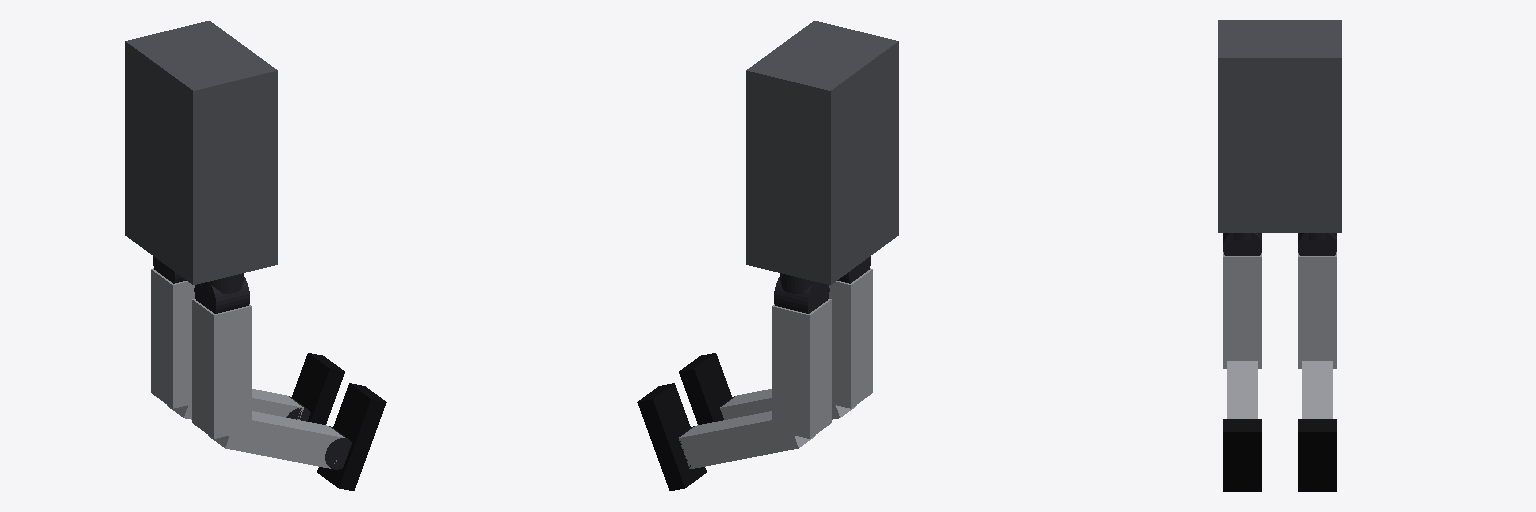
URDF robot description (strider):
<?xml version="1.0"?>
<!--
  strider: a two-legged robot description for the capability ladder's T4.

  Authored by this benchmark's own maintainers. It is not a vendor model and
  it is not a copy of one: no column gets credit for shipping a first-party
  model of it, and no column is disadvantaged by not having one. That is a
  deliberate trade and it is recorded in meta.json rather than hidden.

  PRIMITIVE GEOMETRY ONLY. Every link is a box or a cylinder. There is not one
  mesh in this file and not one external reference, for the reason the tiers
  below state: capability-ladder-plan.md section 9 Q4 names the risk that a
  column fails a tier on a mesh-decoding quirk and the grid reads as a
  capability verdict. T1's container carries COLLADA meshes and lives with
  that risk on the record; this tier must not compound it.

  Layout: one base and two identical legs, each with six revolute joints:
  hip yaw (about z), hip roll (about x), hip pitch (about y), knee (about y),
  ankle pitch (about y), ankle roll (about x). 13 links, 12 joints, NO fixed
  joints anywhere. The absence of fixed joints is deliberate: an importer that
  fuses welded bodies would erase a named foot link, and the tier counts
  make-and-break ground contacts PER CONTACTING BODY. Each foot is the child
  of its own ankle-roll joint and stays a named body on every column.

  There are no arms, and the trunk is part of base_link rather than a separate
  body on a waist joint. Both are deliberate. The tier is a statement about
  legs; every extra body is one more thing a column's importer can differ on,
  and a waist joint would have to be driven just to keep the trunk upright.

  Collision geometry is on the base box and the two foot boxes only. Thighs,
  shanks and the joint housings are visual. This is the standard modelling
  choice for a legged robot and it is stated rather than assumed: a column
  that reports contacts will report them naming base_link, foot_l and foot_r,
  and nothing else on this robot can touch anything.

  Standing geometry (a fact about this file, not a recommended pose). With
  every joint at zero the legs are straight, the sole sits 0.725 m below the
  base origin, and each foot is directly under its own hip. With a modest
  crouch of hip pitch 0.30, knee -0.60, ankle pitch 0.30 the sole sits 0.680 m
  below the base origin and the foot is still directly under the hip, because
  the shank rotates back through exactly the angle the thigh rotated forward.
  Each leg reaches between 0.09 m and 0.60 m from hip pitch axis to sole.

  The knee's upper limit is -0.05 rad rather than 0: a knee allowed to lock
  straight sits on the singularity of every two-link leg solution, where the
  solution is numerically fine and physically rigid.

  This file describes a robot and nothing else. No world, no ground, no light,
  no actuator, no motion plan. What the world must offer is stated in
  ARENA.txt beside this file.

  NOTE ON XML COMMENTS: a double hyphen is illegal inside an XML comment and a
  strict reader rejects the whole file for one, while several simulators'
  description paths are not schema-checked and accept it. None appears here on
  purpose.
-->
<robot name="strider">

  <!-- ====================== base: pelvis and trunk ====================== -->
  <link name="base_link">
    <inertial>
      <origin xyz="0 0 0.20" rpy="0 0 0"/>
      <mass value="12.0"/>
      <inertia ixx="0.272" ixy="0" ixz="0" iyy="0.234" iyz="0" izz="0.118"/>
    </inertial>
    <visual>
      <origin xyz="0 0 0.20" rpy="0 0 0"/>
      <geometry><box size="0.20 0.28 0.44"/></geometry>
      <material name="body_grey"><color rgba="0.35 0.36 0.38 1.0"/></material>
    </visual>
    <collision>
      <origin xyz="0 0 0.20" rpy="0 0 0"/>
      <geometry><box size="0.20 0.28 0.44"/></geometry>
    </collision>
  </link>

  <!-- ============================ left leg ============================= -->
  <link name="hip_yaw_l">
    <inertial>
      <origin xyz="0 0 0" rpy="0 0 0"/>
      <mass value="0.70"/>
      <inertia ixx="0.00064" ixy="0" ixz="0" iyy="0.00064" iyz="0"
               izz="0.00071"/>
    </inertial>
    <visual>
      <origin xyz="0 0 0" rpy="0 0 0"/>
      <geometry><cylinder radius="0.045" length="0.07"/></geometry>
      <material name="joint_dark"><color rgba="0.18 0.18 0.20 1.0"/></material>
    </visual>
  </link>
  <joint name="hip_yaw_l_joint" type="revolute">
    <parent link="base_link"/>
    <child link="hip_yaw_l"/>
    <origin xyz="0 0.085 -0.03" rpy="0 0 0"/>
    <axis xyz="0 0 1"/>
    <limit lower="-0.70" upper="0.70" effort="60.0" velocity="15.0"/>
    <dynamics damping="0.10" friction="0.0"/>
  </joint>

  <link name="hip_roll_l">
    <inertial>
      <origin xyz="0 0 0" rpy="0 0 0"/>
      <mass value="0.70"/>
      <inertia ixx="0.00071" ixy="0" ixz="0" iyy="0.00073" iyz="0"
               izz="0.00073"/>
    </inertial>
    <visual>
      <origin xyz="0 0 0" rpy="0 1.5708 0"/>
      <geometry><cylinder radius="0.045" length="0.08"/></geometry>
      <material name="joint_dark"/>
    </visual>
  </link>
  <joint name="hip_roll_l_joint" type="revolute">
    <parent link="hip_yaw_l"/>
    <child link="hip_roll_l"/>
    <origin xyz="0 0 -0.055" rpy="0 0 0"/>
    <axis xyz="1 0 0"/>
    <limit lower="-0.45" upper="0.45" effort="80.0" velocity="15.0"/>
    <dynamics damping="0.10" friction="0.0"/>
  </joint>

  <link name="thigh_l">
    <inertial>
      <origin xyz="0 0 -0.14" rpy="0 0 0"/>
      <mass value="2.40"/>
      <inertia ixx="0.01730" ixy="0" ixz="0" iyy="0.01730" iyz="0"
               izz="0.00324"/>
    </inertial>
    <visual>
      <origin xyz="0 0 -0.14" rpy="0 0 0"/>
      <geometry><box size="0.09 0.09 0.28"/></geometry>
      <material name="limb_light"><color rgba="0.62 0.63 0.65 1.0"/></material>
    </visual>
  </link>
  <joint name="hip_pitch_l_joint" type="revolute">
    <parent link="hip_roll_l"/>
    <child link="thigh_l"/>
    <origin xyz="0 0 -0.02" rpy="0 0 0"/>
    <axis xyz="0 1 0"/>
    <limit lower="-2.00" upper="1.00" effort="100.0" velocity="15.0"/>
    <dynamics damping="0.10" friction="0.0"/>
  </joint>

  <link name="shank_l">
    <inertial>
      <origin xyz="0 0 -0.14" rpy="0 0 0"/>
      <mass value="1.80"/>
      <inertia ixx="0.01250" ixy="0" ixz="0" iyy="0.01250" iyz="0"
               izz="0.00147"/>
    </inertial>
    <visual>
      <origin xyz="0 0 -0.14" rpy="0 0 0"/>
      <geometry><box size="0.07 0.07 0.28"/></geometry>
      <material name="limb_light"/>
    </visual>
  </link>
  <joint name="knee_l_joint" type="revolute">
    <parent link="thigh_l"/>
    <child link="shank_l"/>
    <origin xyz="0 0 -0.28" rpy="0 0 0"/>
    <axis xyz="0 1 0"/>
    <limit lower="-2.30" upper="-0.05" effort="120.0" velocity="15.0"/>
    <dynamics damping="0.10" friction="0.0"/>
  </joint>

  <link name="ankle_l">
    <inertial>
      <origin xyz="0 0 0" rpy="0 0 0"/>
      <mass value="0.30"/>
      <inertia ixx="0.000214" ixy="0" ixz="0" iyy="0.000184" iyz="0"
               izz="0.000214"/>
    </inertial>
    <visual>
      <origin xyz="0 0 0" rpy="1.5708 0 0"/>
      <geometry><cylinder radius="0.035" length="0.07"/></geometry>
      <material name="joint_dark"/>
    </visual>
  </link>
  <joint name="ankle_pitch_l_joint" type="revolute">
    <parent link="shank_l"/>
    <child link="ankle_l"/>
    <origin xyz="0 0 -0.28" rpy="0 0 0"/>
    <axis xyz="0 1 0"/>
    <limit lower="-0.90" upper="0.90" effort="60.0" velocity="15.0"/>
    <dynamics damping="0.10" friction="0.0"/>
  </joint>

  <link name="foot_l">
    <inertial>
      <origin xyz="0.03 0 -0.02" rpy="0 0 0"/>
      <mass value="0.90"/>
      <inertia ixx="0.000728" ixy="0" ixz="0" iyy="0.00312" iyz="0"
               izz="0.00361"/>
    </inertial>
    <visual>
      <origin xyz="0.03 0 -0.02" rpy="0 0 0"/>
      <geometry><box size="0.20 0.09 0.04"/></geometry>
      <material name="foot_dark"><color rgba="0.10 0.10 0.11 1.0"/></material>
    </visual>
    <collision>
      <origin xyz="0.03 0 -0.02" rpy="0 0 0"/>
      <geometry><box size="0.20 0.09 0.04"/></geometry>
    </collision>
  </link>
  <joint name="ankle_roll_l_joint" type="revolute">
    <parent link="ankle_l"/>
    <child link="foot_l"/>
    <origin xyz="0 0 -0.02" rpy="0 0 0"/>
    <axis xyz="1 0 0"/>
    <limit lower="-0.45" upper="0.45" effort="30.0" velocity="15.0"/>
    <dynamics damping="0.10" friction="0.0"/>
  </joint>

  <!-- ============================ right leg ============================ -->
  <link name="hip_yaw_r">
    <inertial>
      <origin xyz="0 0 0" rpy="0 0 0"/>
      <mass value="0.70"/>
      <inertia ixx="0.00064" ixy="0" ixz="0" iyy="0.00064" iyz="0"
               izz="0.00071"/>
    </inertial>
    <visual>
      <origin xyz="0 0 0" rpy="0 0 0"/>
      <geometry><cylinder radius="0.045" length="0.07"/></geometry>
      <material name="joint_dark"/>
    </visual>
  </link>
  <joint name="hip_yaw_r_joint" type="revolute">
    <parent link="base_link"/>
    <child link="hip_yaw_r"/>
    <origin xyz="0 -0.085 -0.03" rpy="0 0 0"/>
    <axis xyz="0 0 1"/>
    <limit lower="-0.70" upper="0.70" effort="60.0" velocity="15.0"/>
    <dynamics damping="0.10" friction="0.0"/>
  </joint>

  <link name="hip_roll_r">
    <inertial>
      <origin xyz="0 0 0" rpy="0 0 0"/>
      <mass value="0.70"/>
      <inertia ixx="0.00071" ixy="0" ixz="0" iyy="0.00073" iyz="0"
               izz="0.00073"/>
    </inertial>
    <visual>
      <origin xyz="0 0 0" rpy="0 1.5708 0"/>
      <geometry><cylinder radius="0.045" length="0.08"/></geometry>
      <material name="joint_dark"/>
    </visual>
  </link>
  <joint name="hip_roll_r_joint" type="revolute">
    <parent link="hip_yaw_r"/>
    <child link="hip_roll_r"/>
    <origin xyz="0 0 -0.055" rpy="0 0 0"/>
    <axis xyz="1 0 0"/>
    <limit lower="-0.45" upper="0.45" effort="80.0" velocity="15.0"/>
    <dynamics damping="0.10" friction="0.0"/>
  </joint>

  <link name="thigh_r">
    <inertial>
      <origin xyz="0 0 -0.14" rpy="0 0 0"/>
      <mass value="2.40"/>
      <inertia ixx="0.01730" ixy="0" ixz="0" iyy="0.01730" iyz="0"
               izz="0.00324"/>
    </inertial>
    <visual>
      <origin xyz="0 0 -0.14" rpy="0 0 0"/>
      <geometry><box size="0.09 0.09 0.28"/></geometry>
      <material name="limb_light"/>
    </visual>
  </link>
  <joint name="hip_pitch_r_joint" type="revolute">
    <parent link="hip_roll_r"/>
    <child link="thigh_r"/>
    <origin xyz="0 0 -0.02" rpy="0 0 0"/>
    <axis xyz="0 1 0"/>
    <limit lower="-2.00" upper="1.00" effort="100.0" velocity="15.0"/>
    <dynamics damping="0.10" friction="0.0"/>
  </joint>

  <link name="shank_r">
    <inertial>
      <origin xyz="0 0 -0.14" rpy="0 0 0"/>
      <mass value="1.80"/>
      <inertia ixx="0.01250" ixy="0" ixz="0" iyy="0.01250" iyz="0"
               izz="0.00147"/>
    </inertial>
    <visual>
      <origin xyz="0 0 -0.14" rpy="0 0 0"/>
      <geometry><box size="0.07 0.07 0.28"/></geometry>
      <material name="limb_light"/>
    </visual>
  </link>
  <joint name="knee_r_joint" type="revolute">
    <parent link="thigh_r"/>
    <child link="shank_r"/>
    <origin xyz="0 0 -0.28" rpy="0 0 0"/>
    <axis xyz="0 1 0"/>
    <limit lower="-2.30" upper="-0.05" effort="120.0" velocity="15.0"/>
    <dynamics damping="0.10" friction="0.0"/>
  </joint>

  <link name="ankle_r">
    <inertial>
      <origin xyz="0 0 0" rpy="0 0 0"/>
      <mass value="0.30"/>
      <inertia ixx="0.000214" ixy="0" ixz="0" iyy="0.000184" iyz="0"
               izz="0.000214"/>
    </inertial>
    <visual>
      <origin xyz="0 0 0" rpy="1.5708 0 0"/>
      <geometry><cylinder radius="0.035" length="0.07"/></geometry>
      <material name="joint_dark"/>
    </visual>
  </link>
  <joint name="ankle_pitch_r_joint" type="revolute">
    <parent link="shank_r"/>
    <child link="ankle_r"/>
    <origin xyz="0 0 -0.28" rpy="0 0 0"/>
    <axis xyz="0 1 0"/>
    <limit lower="-0.90" upper="0.90" effort="60.0" velocity="15.0"/>
    <dynamics damping="0.10" friction="0.0"/>
  </joint>

  <link name="foot_r">
    <inertial>
      <origin xyz="0.03 0 -0.02" rpy="0 0 0"/>
      <mass value="0.90"/>
      <inertia ixx="0.000728" ixy="0" ixz="0" iyy="0.00312" iyz="0"
               izz="0.00361"/>
    </inertial>
    <visual>
      <origin xyz="0.03 0 -0.02" rpy="0 0 0"/>
      <geometry><box size="0.20 0.09 0.04"/></geometry>
      <material name="foot_dark"/>
    </visual>
    <collision>
      <origin xyz="0.03 0 -0.02" rpy="0 0 0"/>
      <geometry><box size="0.20 0.09 0.04"/></geometry>
    </collision>
  </link>
  <joint name="ankle_roll_r_joint" type="revolute">
    <parent link="ankle_r"/>
    <child link="foot_r"/>
    <origin xyz="0 0 -0.02" rpy="0 0 0"/>
    <axis xyz="1 0 0"/>
    <limit lower="-0.45" upper="0.45" effort="30.0" velocity="15.0"/>
    <dynamics damping="0.10" friction="0.0"/>
  </joint>

</robot>

--- What the picture shows (computed from the rendered views, not written in the file) ---
3 views of the same robot in one strip: view 1: azimuth 30°, elevation 25°; view 2: azimuth 150°, elevation 25°; view 3: azimuth 270°, elevation 25° (orthographic).
Model strider with 13 links and 12 joints (12 revolute), rooted at base_link, posed all joints at 0 but 2 set to mid-range because 0 is outside their limits (knee_l_joint = -1.18, knee_r_joint = -1.18).
Visible links, largest first — view 1: base_link, thigh_r, thigh_l, shank_r, foot_r, foot_l, shank_l, hip_roll_r, ankle_r, hip_yaw_r; view 2: base_link, thigh_l, thigh_r, shank_l, foot_l, foot_r, shank_r, hip_roll_l, hip_yaw_l; view 3: base_link, thigh_l, thigh_r, foot_l, foot_r, shank_l, shank_r, hip_roll_l, hip_roll_r.
Link boxes in pixels (bbox=[...]): base_link: bbox=[125, 21, 277, 284]; thigh_r: bbox=[192, 299, 251, 438]; thigh_l: bbox=[151, 268, 194, 408]; shank_r: bbox=[208, 411, 344, 468]; foot_r: bbox=[317, 383, 386, 490]; foot_l: bbox=[292, 353, 344, 424]; shank_l: bbox=[167, 389, 303, 419]; hip_roll_r: bbox=[194, 277, 249, 313]; ankle_r: bbox=[325, 426, 351, 469]; hip_yaw_r: bbox=[200, 273, 243, 293]; base_link: bbox=[746, 21, 898, 284]; thigh_l: bbox=[772, 299, 831, 438]; thigh_r: bbox=[829, 268, 872, 408]; shank_l: bbox=[679, 411, 815, 468]; foot_l: bbox=[637, 383, 706, 490]; foot_r: bbox=[679, 353, 731, 424]; shank_r: bbox=[720, 389, 856, 419]; hip_roll_l: bbox=[774, 277, 829, 313]; hip_yaw_l: bbox=[780, 273, 823, 293]; base_link: bbox=[1218, 20, 1341, 232]; thigh_l: bbox=[1298, 252, 1336, 368]; thigh_r: bbox=[1223, 252, 1261, 368]; foot_l: bbox=[1298, 419, 1336, 491]; foot_r: bbox=[1223, 419, 1261, 491]; shank_l: bbox=[1302, 361, 1332, 418]; shank_r: bbox=[1227, 361, 1257, 418]; hip_roll_l: bbox=[1298, 233, 1336, 255]; hip_roll_r: bbox=[1223, 233, 1261, 255].
Size in the robot's own frame: 0.4638 by 0.28 by 1 metres.
Geometry: primitives only (box / cylinder / sphere), no mesh files.
